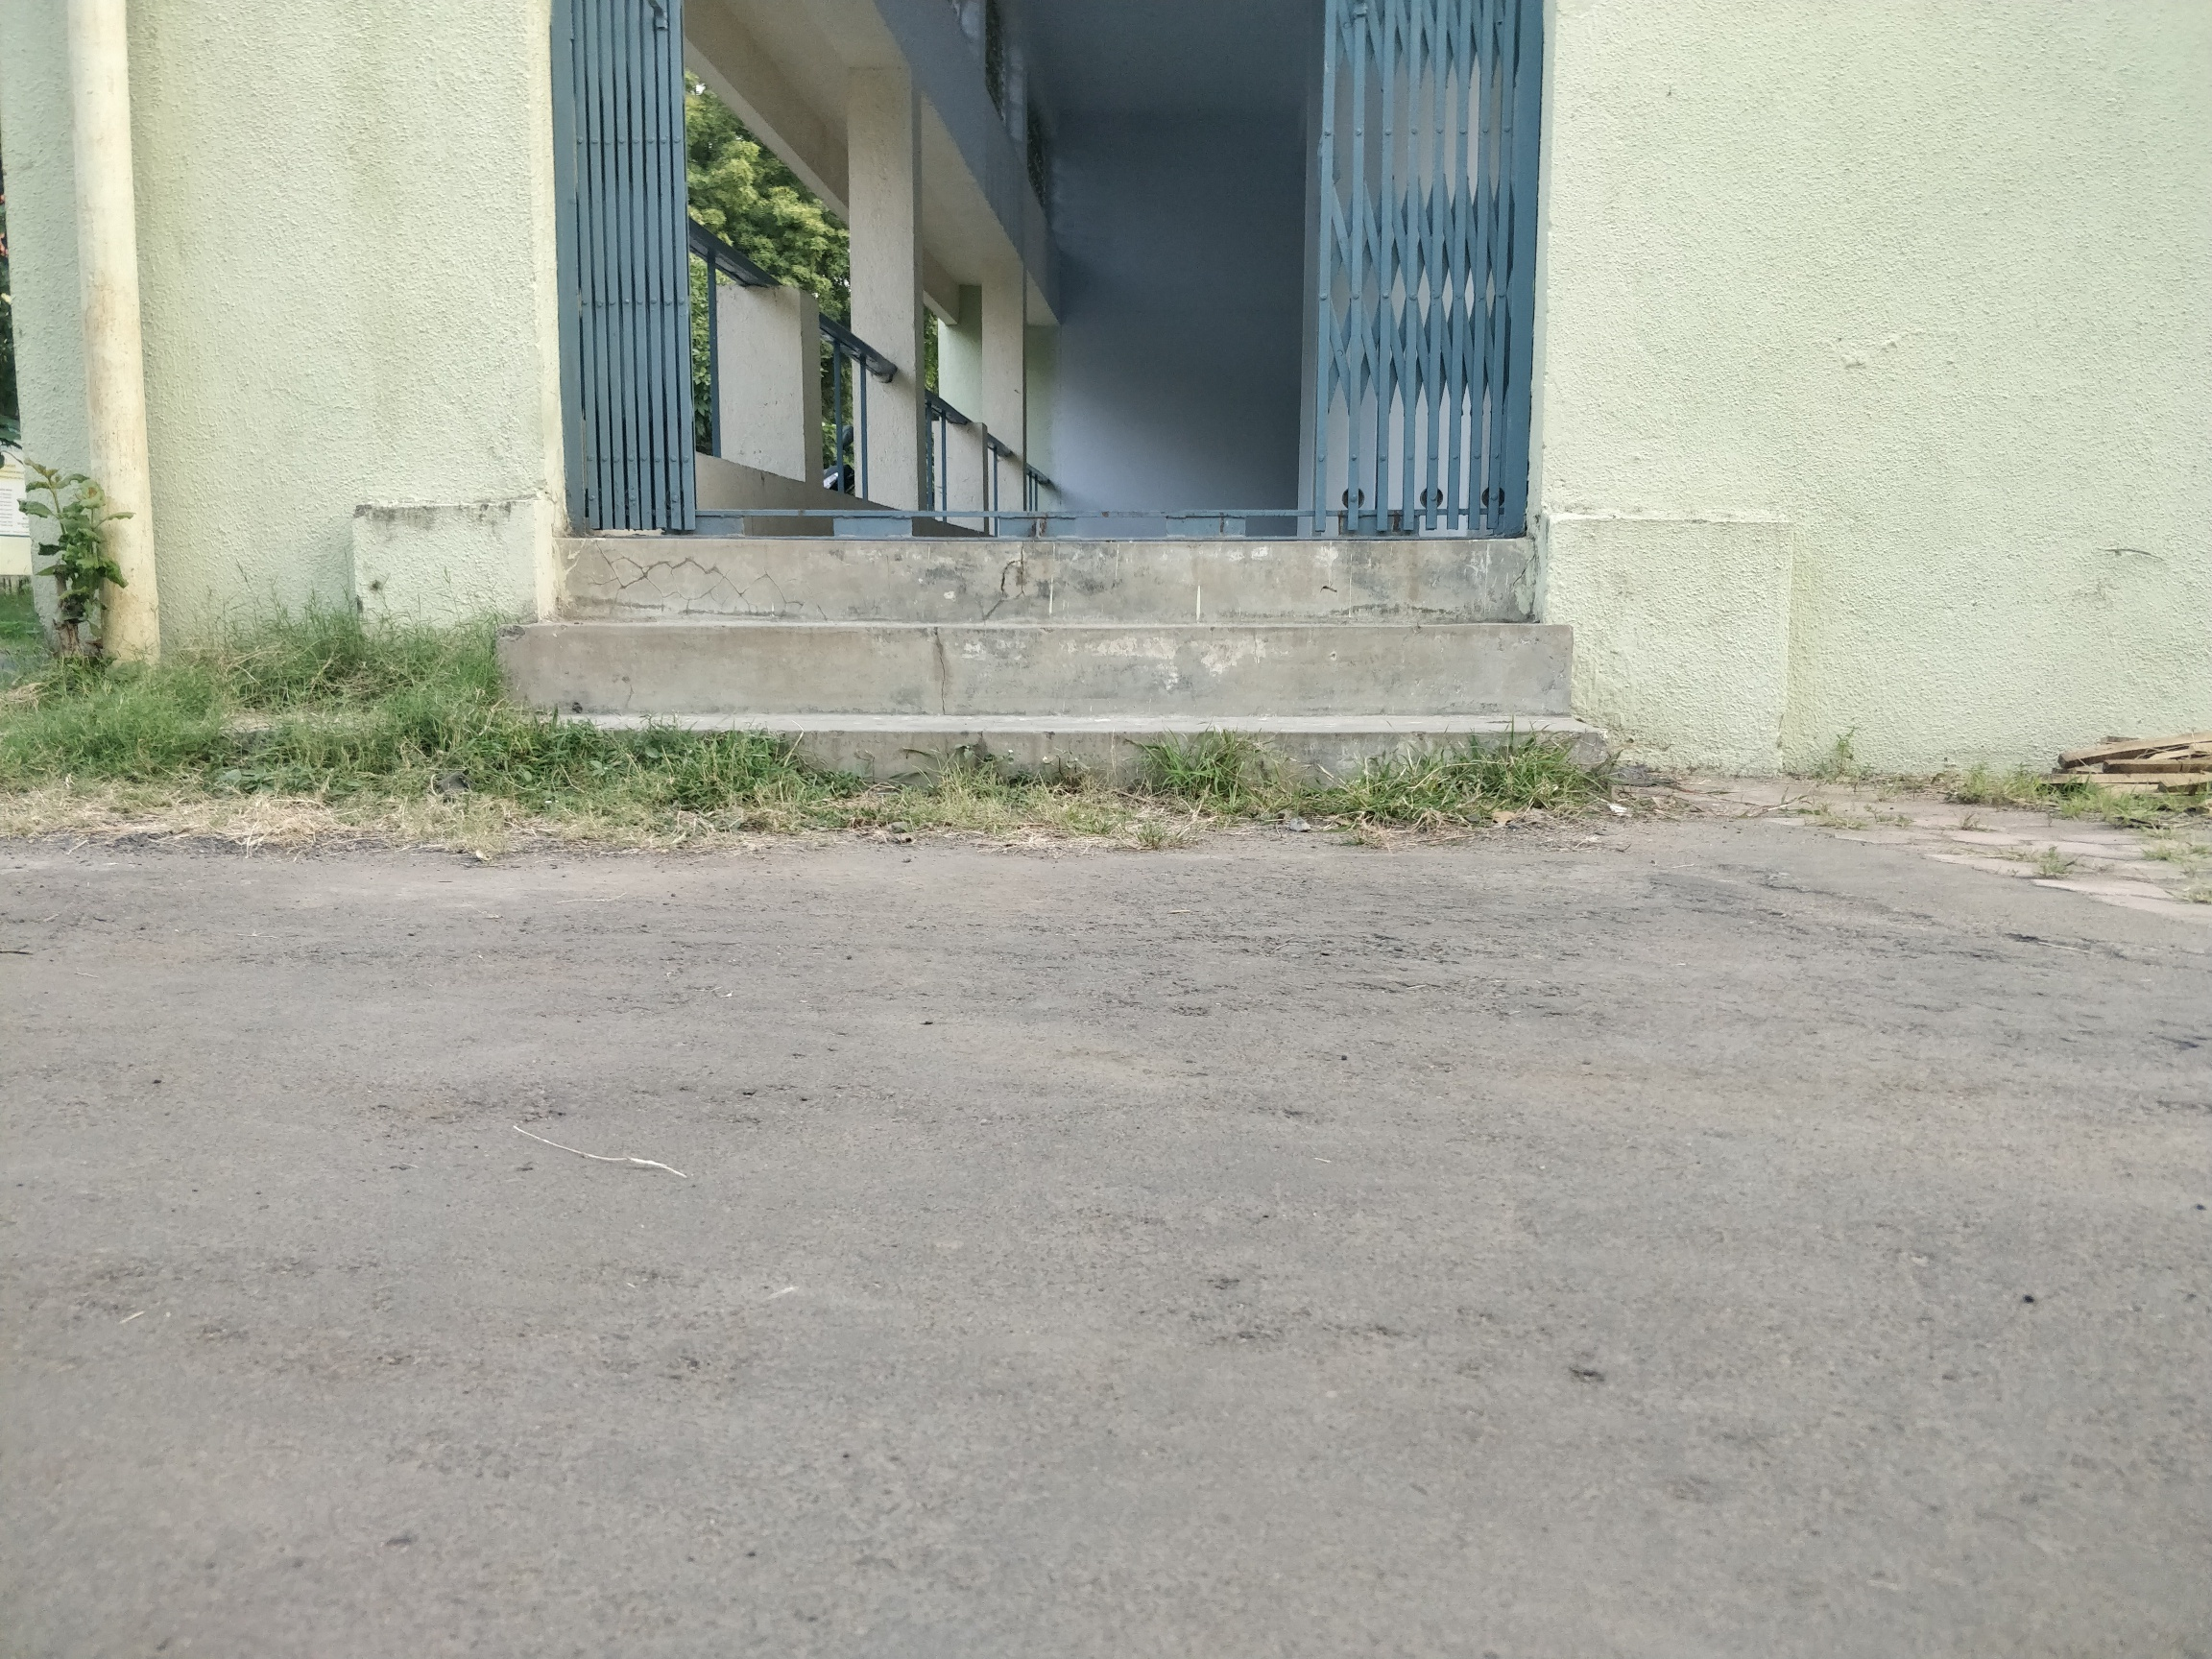stairs_up: (453, 532, 1611, 878)
